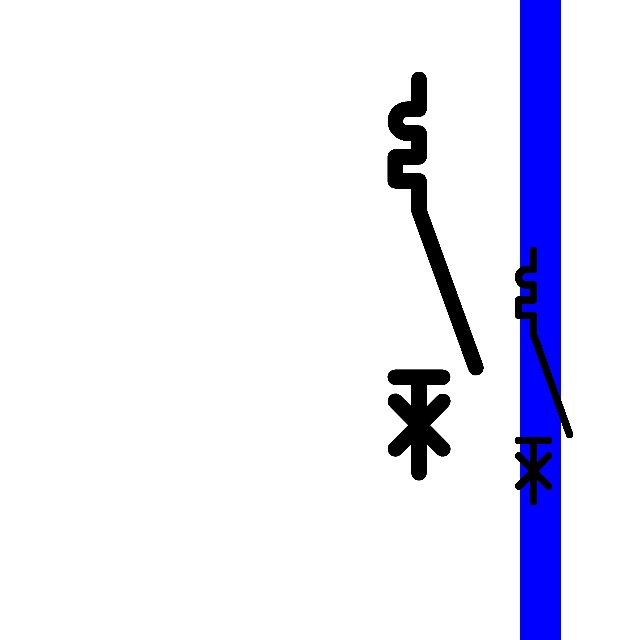interruptor_termomagnetico: (385, 69, 486, 483), (512, 244, 576, 508)
